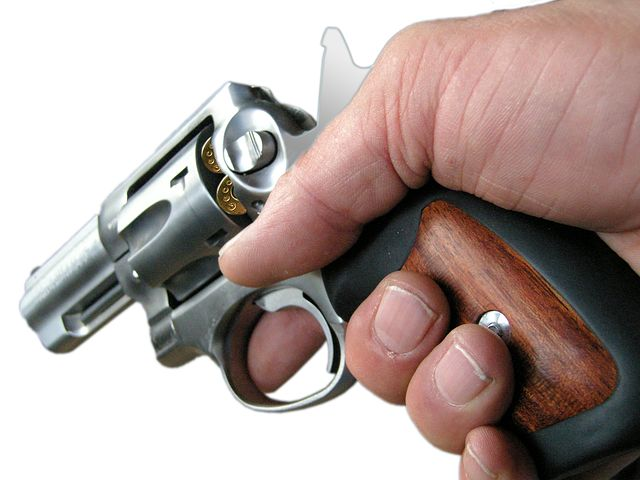gun: (17, 74, 634, 464)
